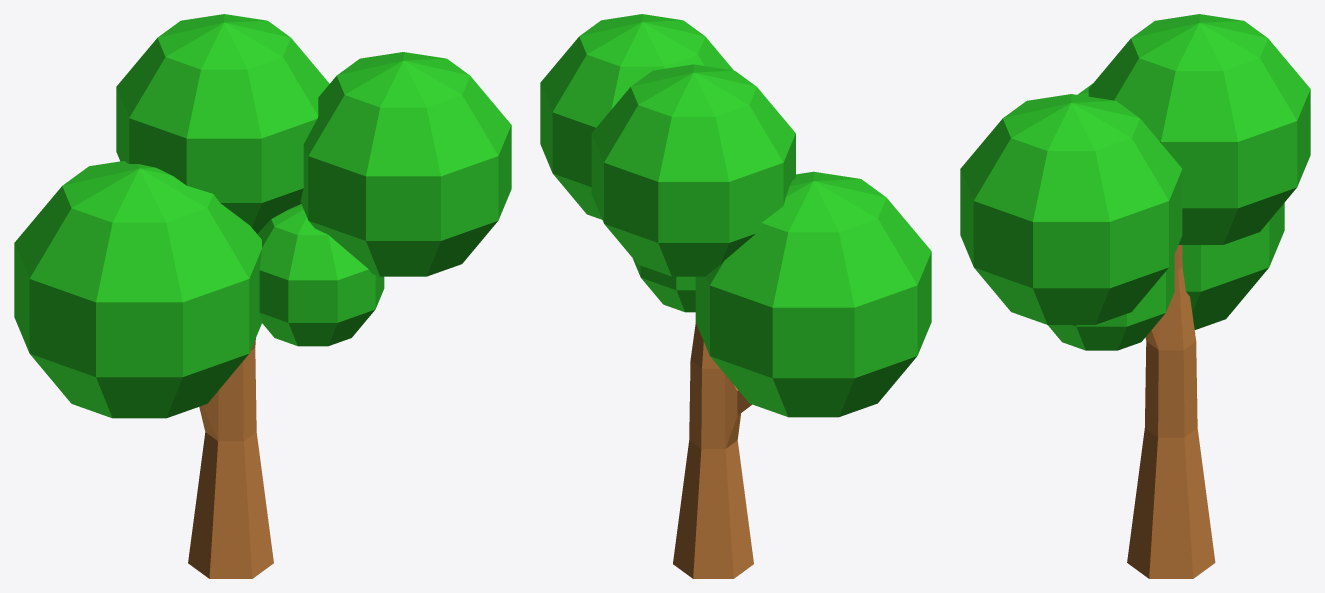
Rendered from tree.fbx.
3 renders of one model, left to right at view 1: azimuth 30°, elevation 25°; view 2: azimuth 150°, elevation 25°; view 3: azimuth 270°, elevation 25°, orthographic. The views are drawn at different scales.
Visible parts, largest first — view 1: Tree26; view 2: Tree26; view 3: Tree26.
Part boxes in pixels (x1=…): Tree26: x1=14, y1=14, x2=511, y2=578; Tree26: x1=540, y1=14, x2=931, y2=578; Tree26: x1=960, y1=14, x2=1310, y2=578.
Size of the model in its own units: 557 by 667 by 390.
